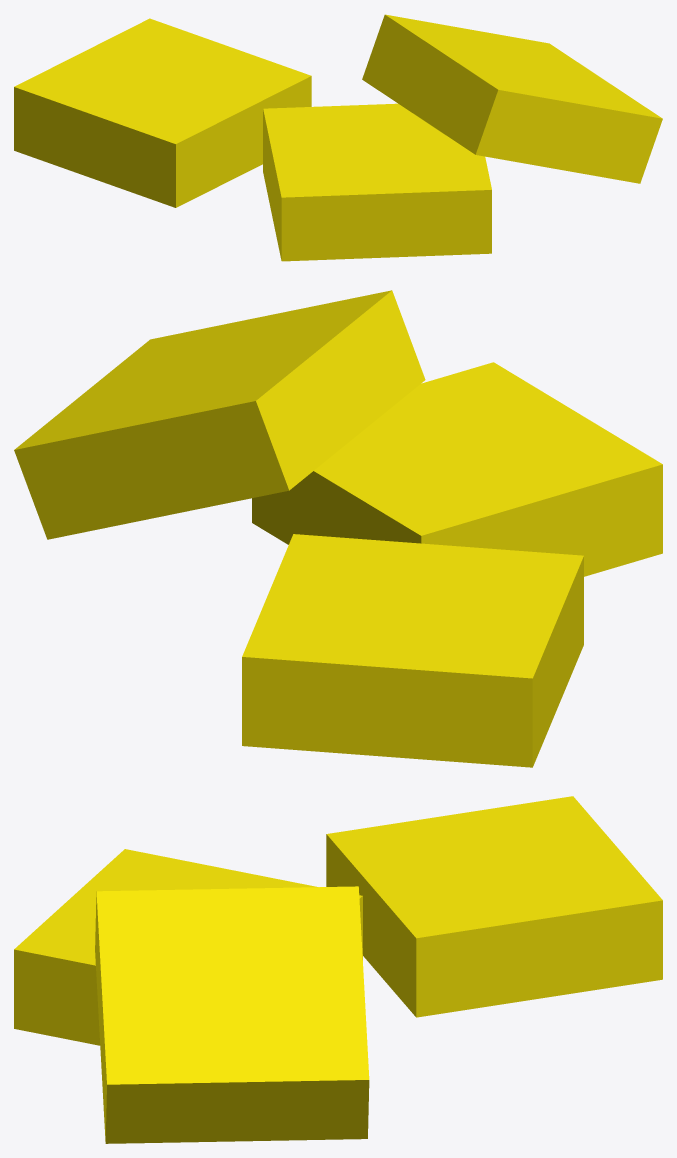
Rendered from coin3Model.obj.
The picture shows the model from 3 angles, top to bottom: view 1: azimuth 30°, elevation 25°; view 2: azimuth 150°, elevation 25°; view 3: azimuth 270°, elevation 25°; orthographic projection. The views are drawn at different scales.
Parts seen in each view (by area): view 1: cuboid; view 2: cuboid; view 3: cuboid.
Part boxes in pixels (<box>): cuboid: <box>14,14,662,261</box>; cuboid: <box>14,290,662,767</box>; cuboid: <box>14,796,662,1143</box>.
Bounding box in the file's own units: 0.4727 × 0.1295 × 0.4635.
1 material, 1 textured.
